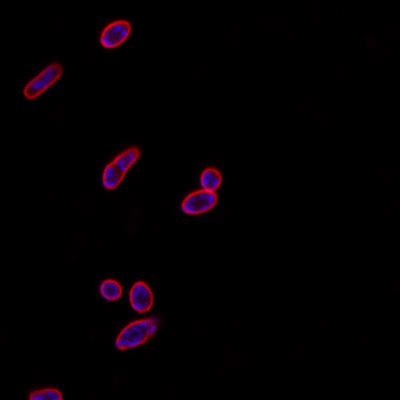Mecillinam: (100, 144, 140, 192), (180, 188, 221, 218), (99, 18, 134, 50), (127, 278, 156, 313), (96, 276, 123, 301), (199, 166, 223, 192)
Oblique: (21, 57, 65, 101), (112, 317, 162, 352)
